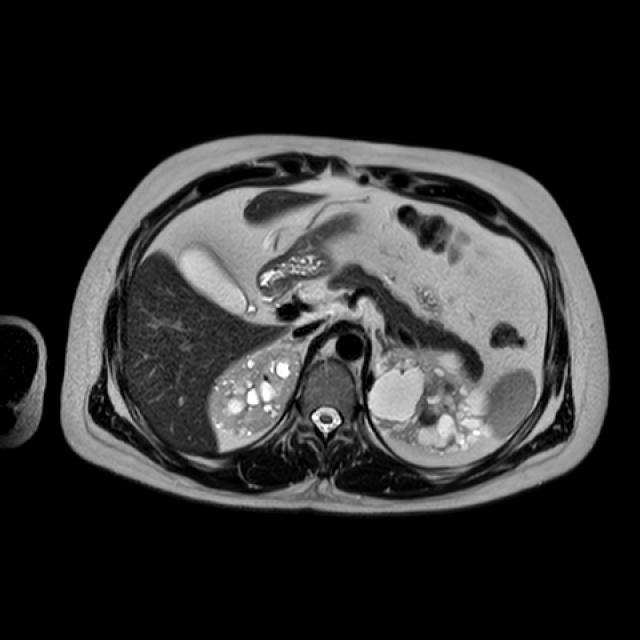sag: (207, 345, 306, 437)
sol: (369, 346, 491, 453)
